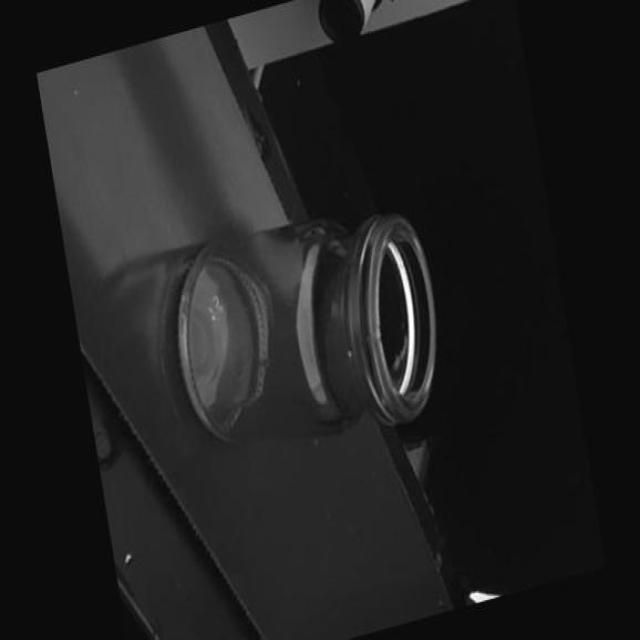defect: (362, 318, 387, 356), (341, 343, 358, 371)
glass: (159, 179, 452, 486)
